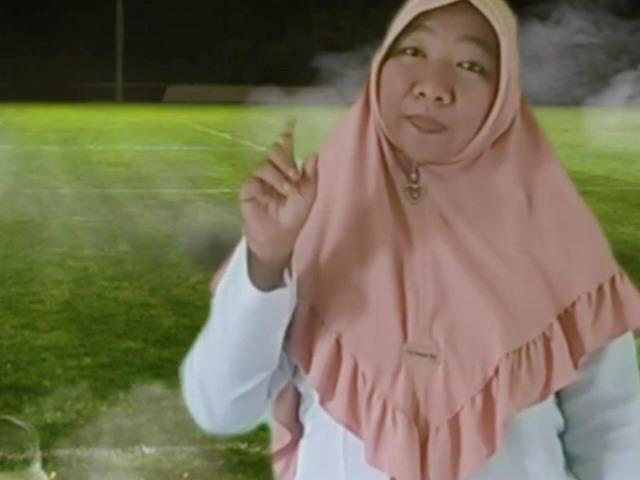X: (242, 112, 324, 246)
